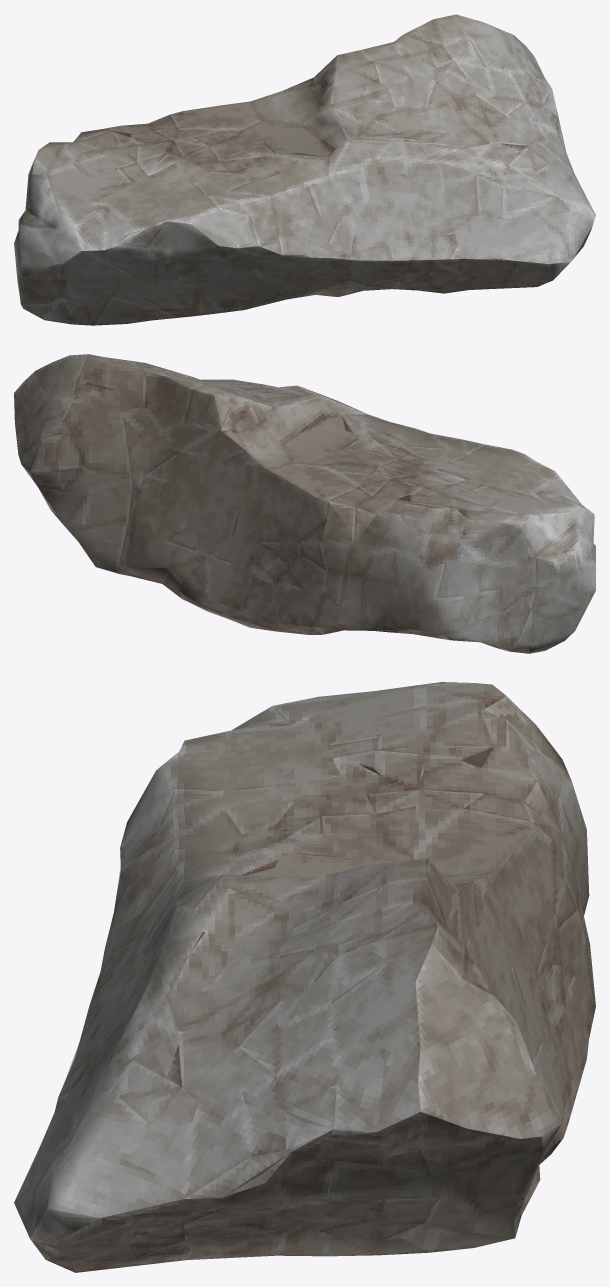
Rendered from moon_rock.glb.
3 views of the same model, one above another, from view 1: azimuth 30°, elevation 25°; view 2: azimuth 150°, elevation 25°; view 3: azimuth 270°, elevation 25° (orthographic). The views are drawn at different scales.
Parts seen in each view (by area): view 1: mesh; view 2: mesh; view 3: mesh.
Boxes of the visible parts, x1,y1,x2,y2 form: mesh: [14, 14, 595, 325]; mesh: [14, 354, 595, 653]; mesh: [14, 682, 595, 1272].
Size of the model in its own units: 1.9 by 0.68 by 1.
1 material, 1 textured.
